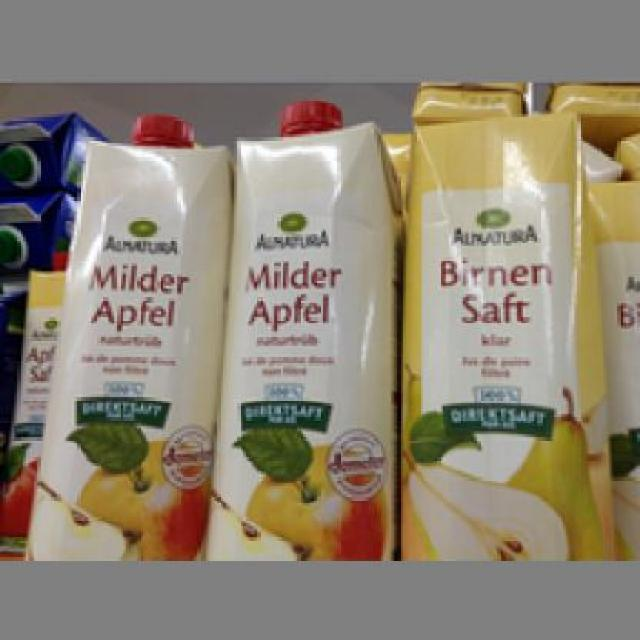Juice: (394, 108, 614, 554), (200, 97, 400, 554), (22, 111, 228, 554)
